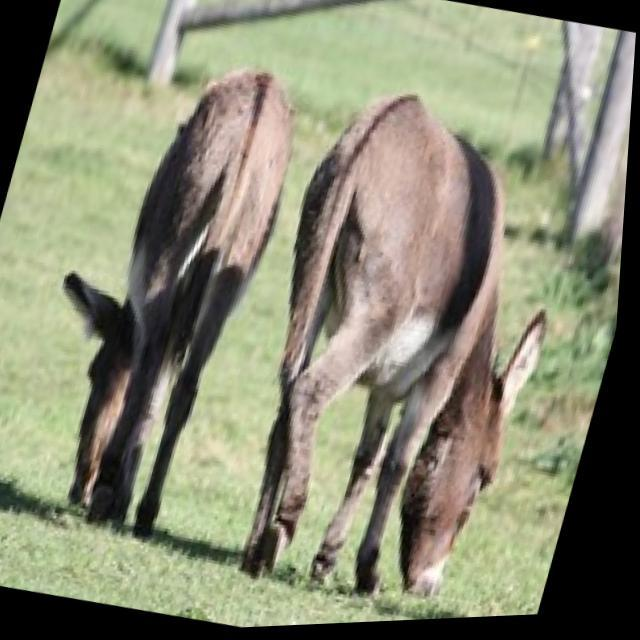Donkey: (205, 31, 638, 632), (0, 0, 355, 571)
